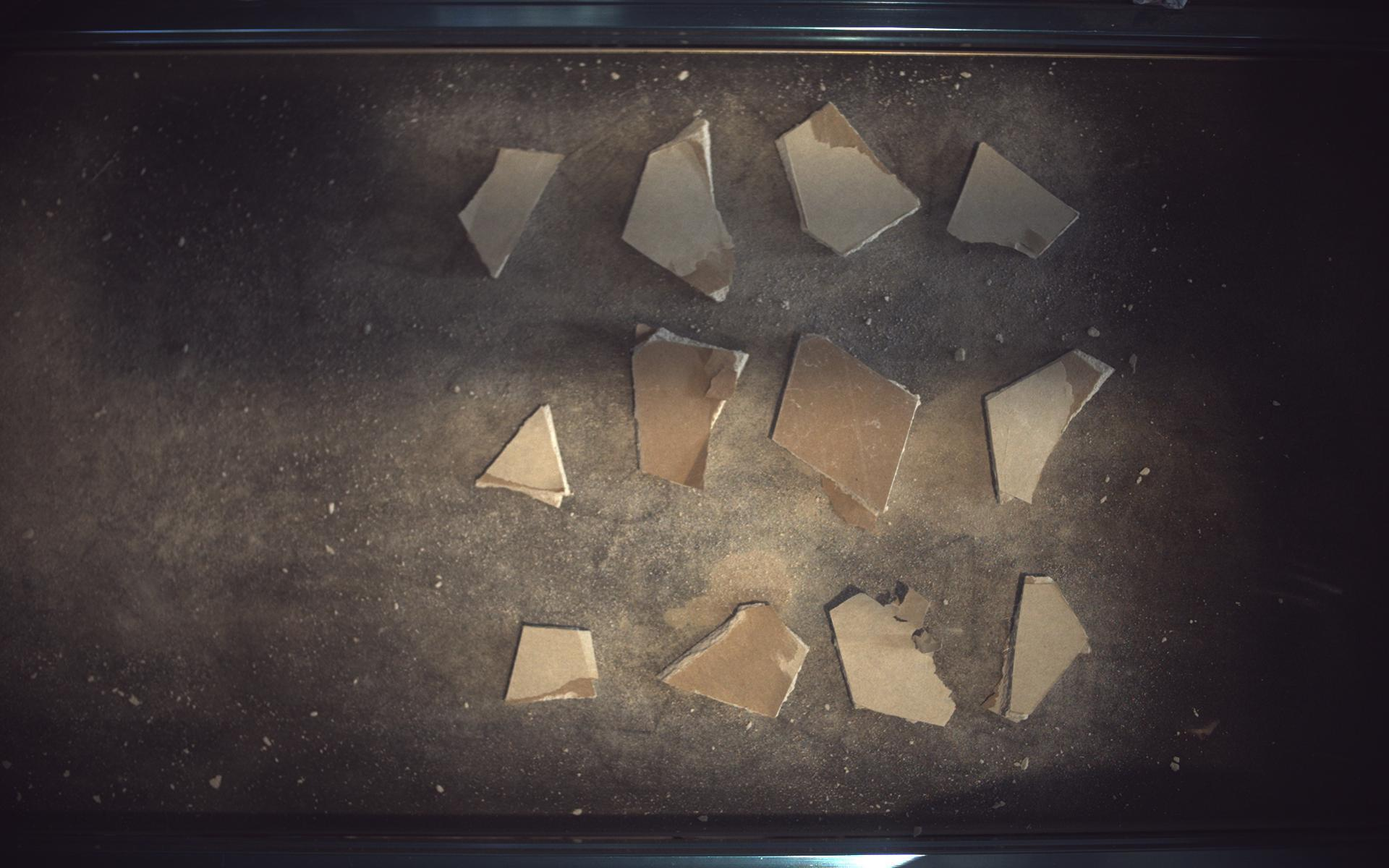gypsum_board: (774, 334, 922, 535), (777, 101, 922, 255), (623, 116, 736, 301), (987, 349, 1117, 503), (633, 324, 750, 489), (659, 603, 810, 718), (831, 594, 957, 727), (986, 575, 1093, 723), (950, 141, 1082, 258), (459, 147, 564, 278), (475, 404, 572, 508), (506, 627, 599, 705)
